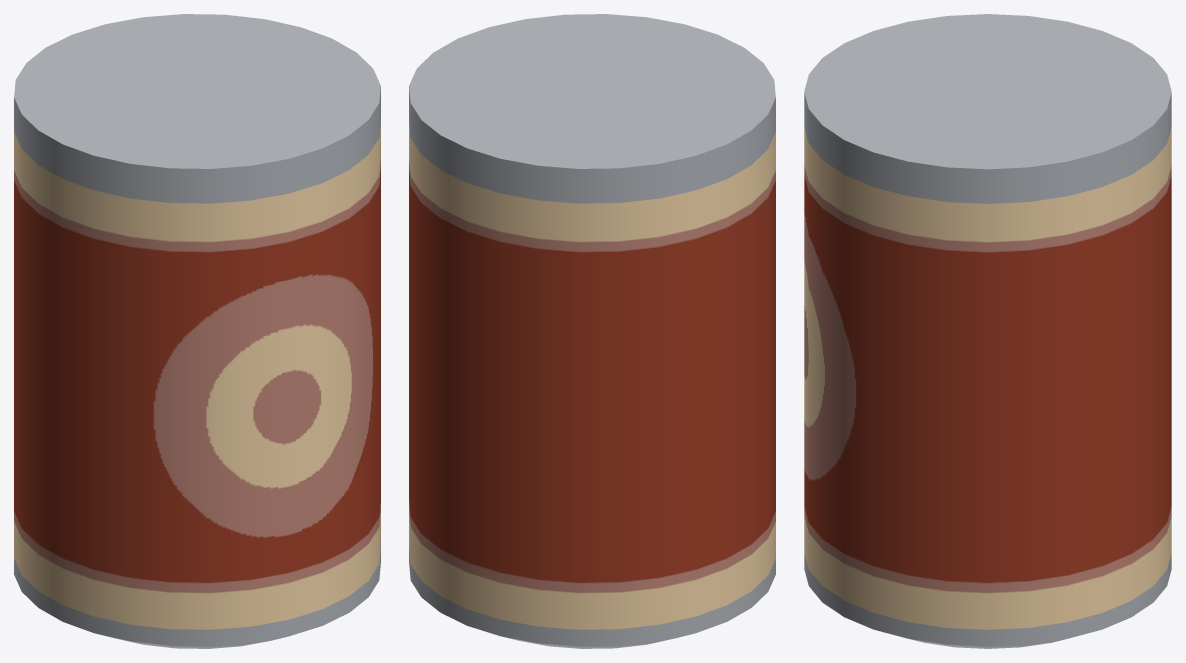
File: Beans.fbx
3 renders of one model, left to right at view 1: azimuth 30°, elevation 25°; view 2: azimuth 150°, elevation 25°; view 3: azimuth 270°, elevation 25°, orthographic.
Parts seen in each view (by area): view 1: Beans; view 2: Beans; view 3: Beans.
Part boxes in pixels (box(x1,y1,x2,y2)): Beans: box(14, 14, 380, 648); Beans: box(409, 14, 775, 648); Beans: box(804, 14, 1171, 648).
Bounding box in the file's own units: 0.074 × 0.11 × 0.074.
Materials: 2 (1 with a texture image).
